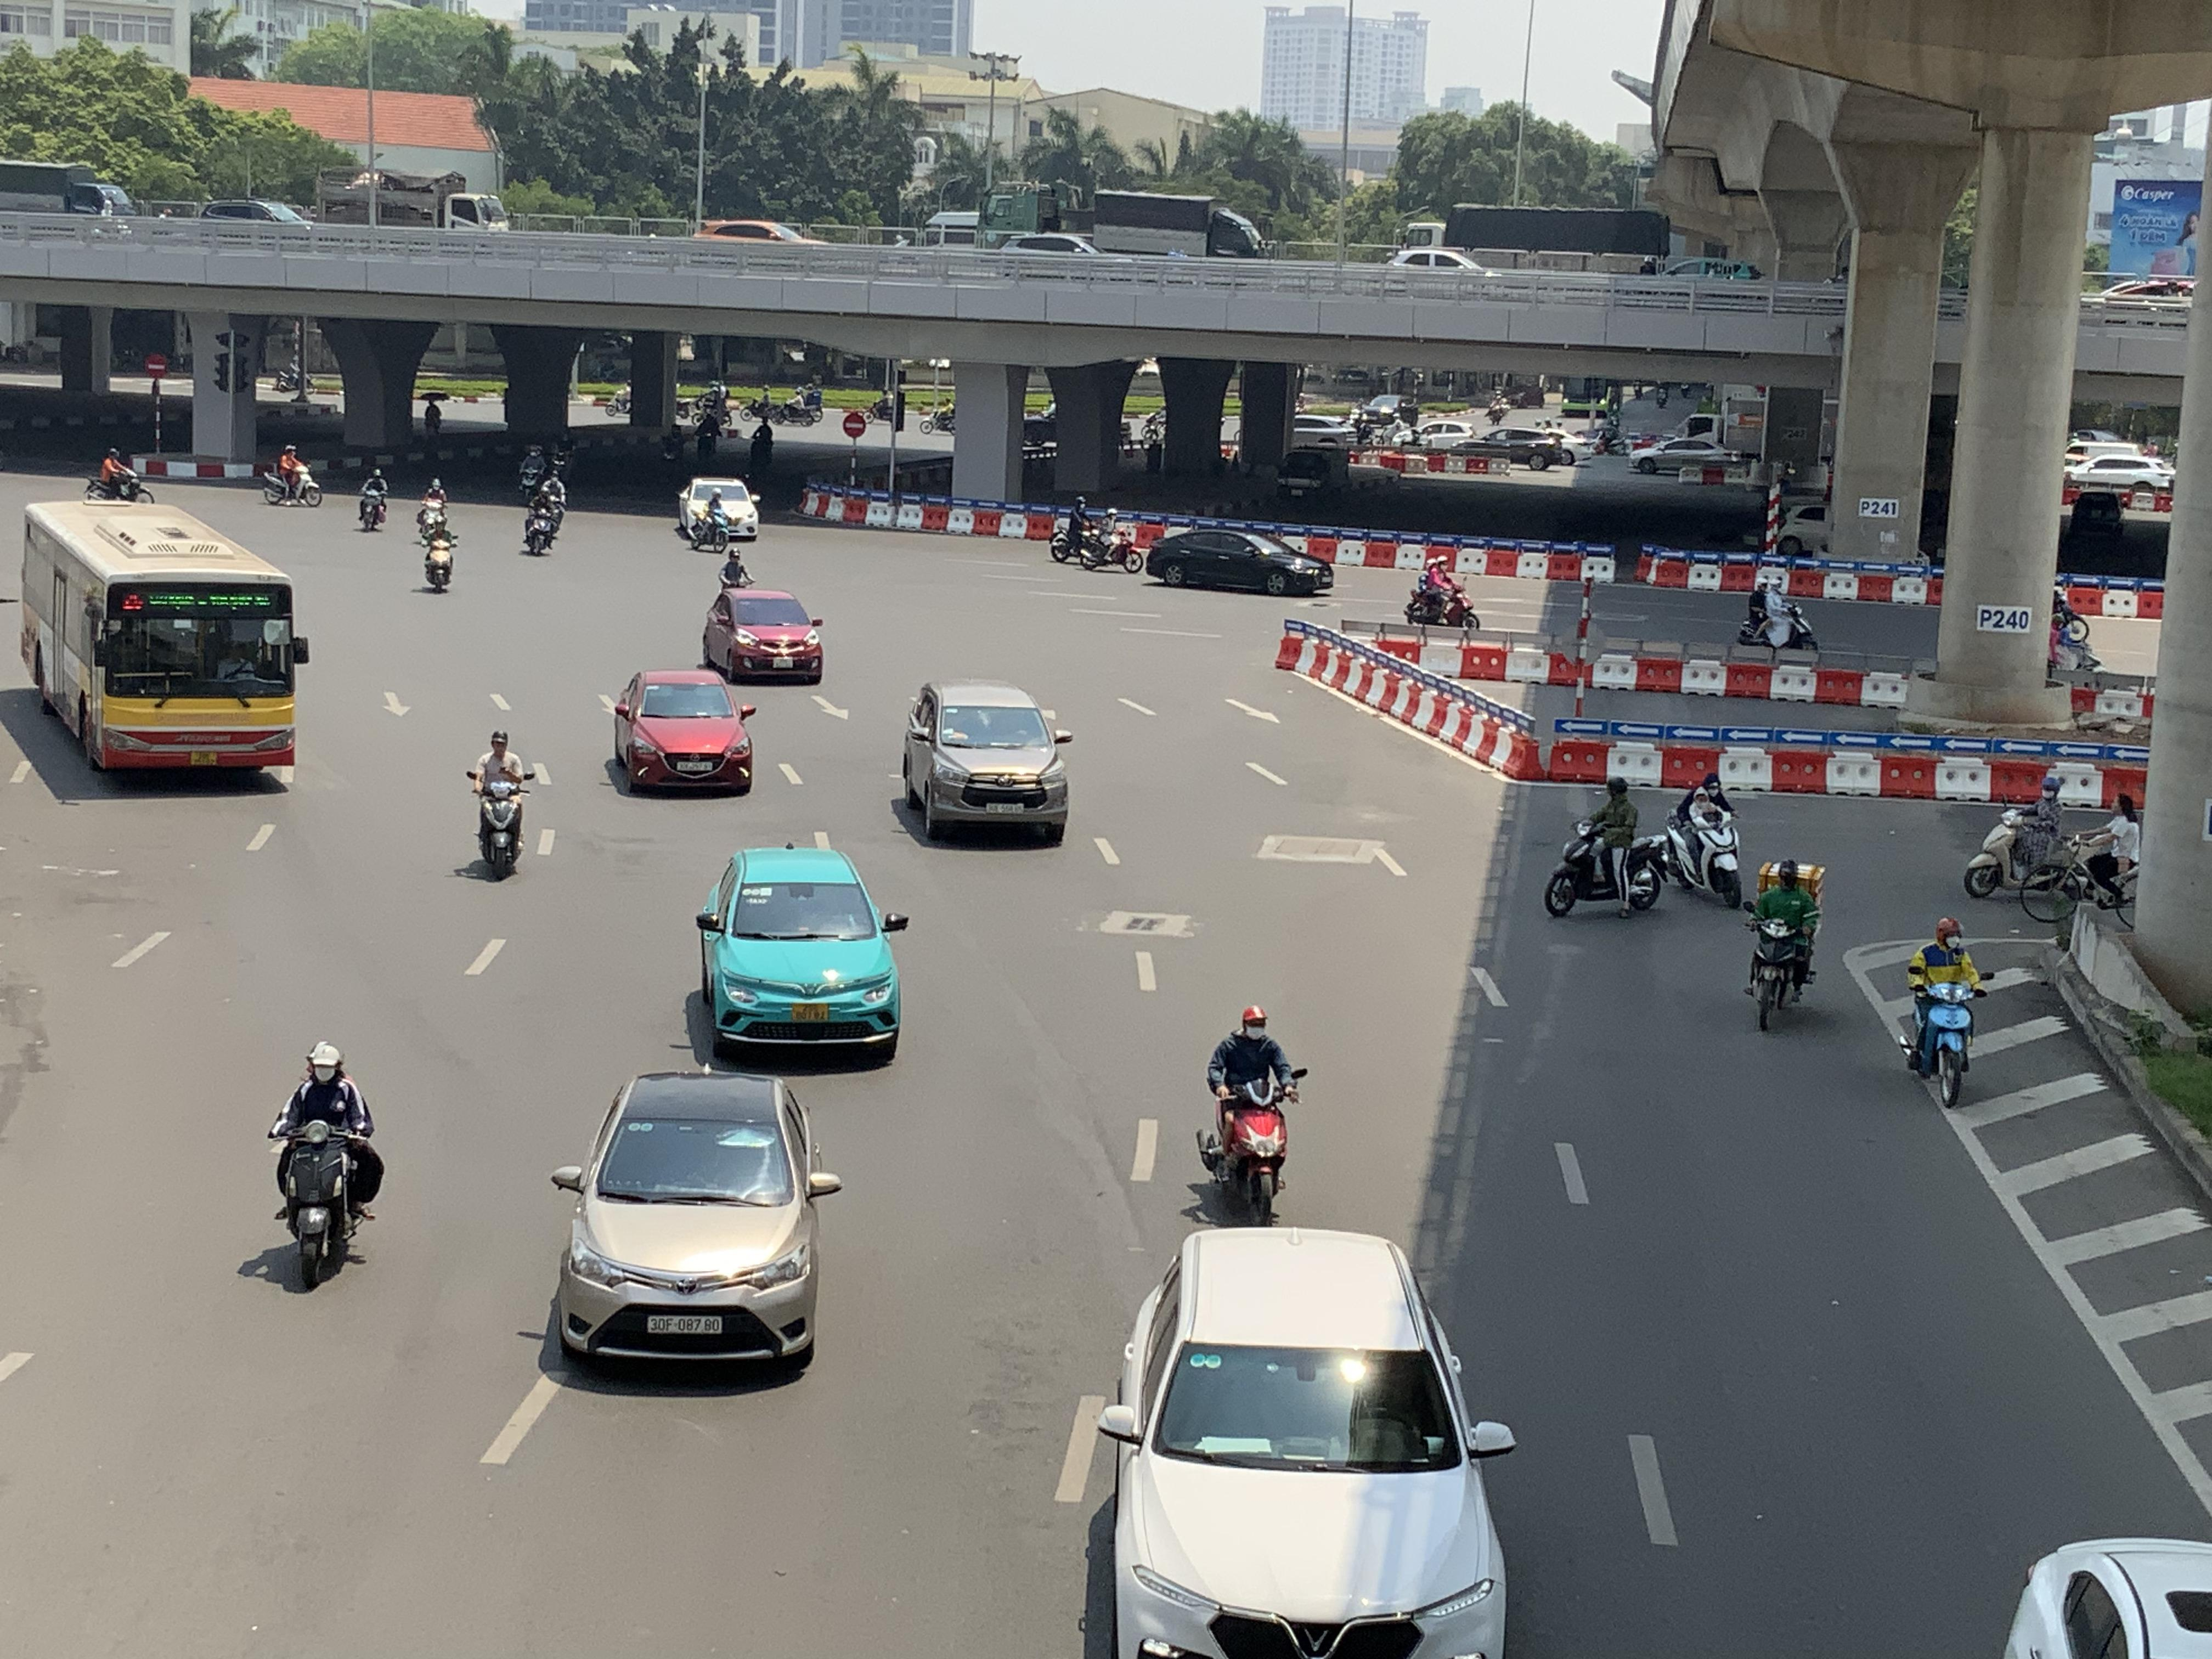BSD: (648, 1316, 723, 1335)
BSV: (791, 1002, 829, 1023), (190, 751, 216, 763)
bus: (19, 497, 308, 779)
car: (1085, 1225, 1519, 1659), (549, 1068, 843, 1377), (691, 843, 911, 1066), (895, 680, 1073, 845), (603, 667, 758, 796), (1144, 526, 1338, 598), (700, 586, 824, 683), (674, 474, 761, 542), (1630, 437, 1738, 477), (1385, 246, 1491, 272)
motorbike: (270, 1040, 381, 1293), (1191, 1004, 1303, 1227), (1545, 775, 1663, 917), (1902, 915, 1987, 1107), (1963, 775, 2083, 901), (1745, 857, 1822, 1033), (1658, 769, 1743, 908), (2052, 795, 2139, 917), (469, 728, 535, 880), (1737, 570, 1817, 650), (1402, 552, 1480, 629), (418, 488, 458, 592), (1082, 507, 1144, 573), (82, 448, 153, 502), (261, 444, 322, 507), (678, 484, 735, 551), (1049, 495, 1099, 563), (521, 476, 563, 556), (355, 462, 388, 532)
truck: (1404, 202, 1677, 267)
